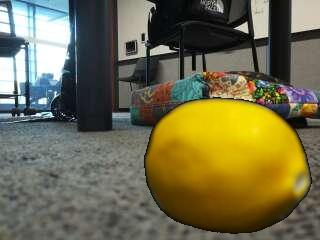lemon: (145, 98, 310, 233)
